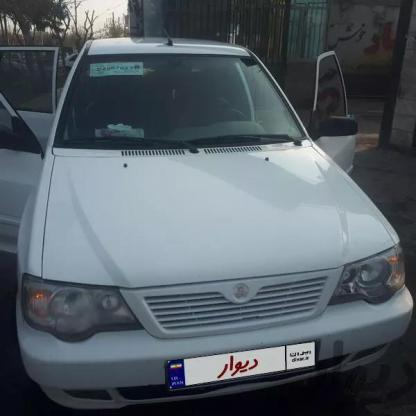Car: (11, 31, 416, 414)
